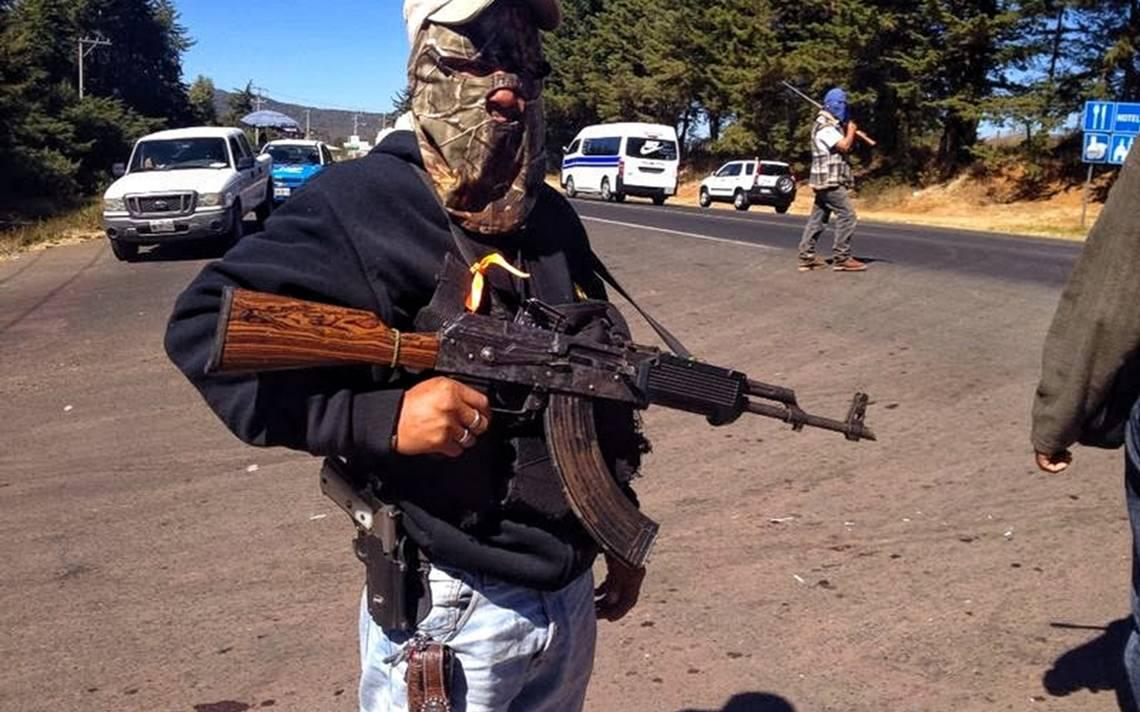larga: (205, 284, 880, 573), (780, 78, 877, 147)
